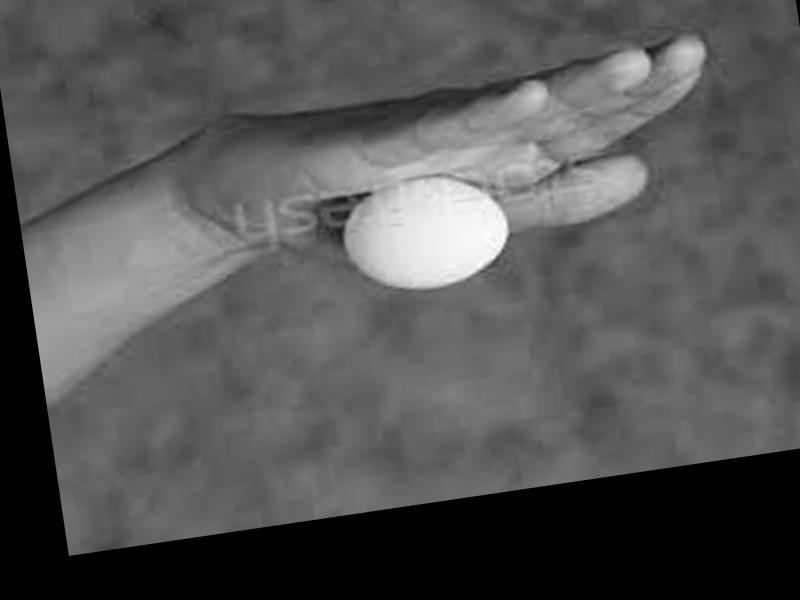Eggs: (336, 167, 514, 302)
